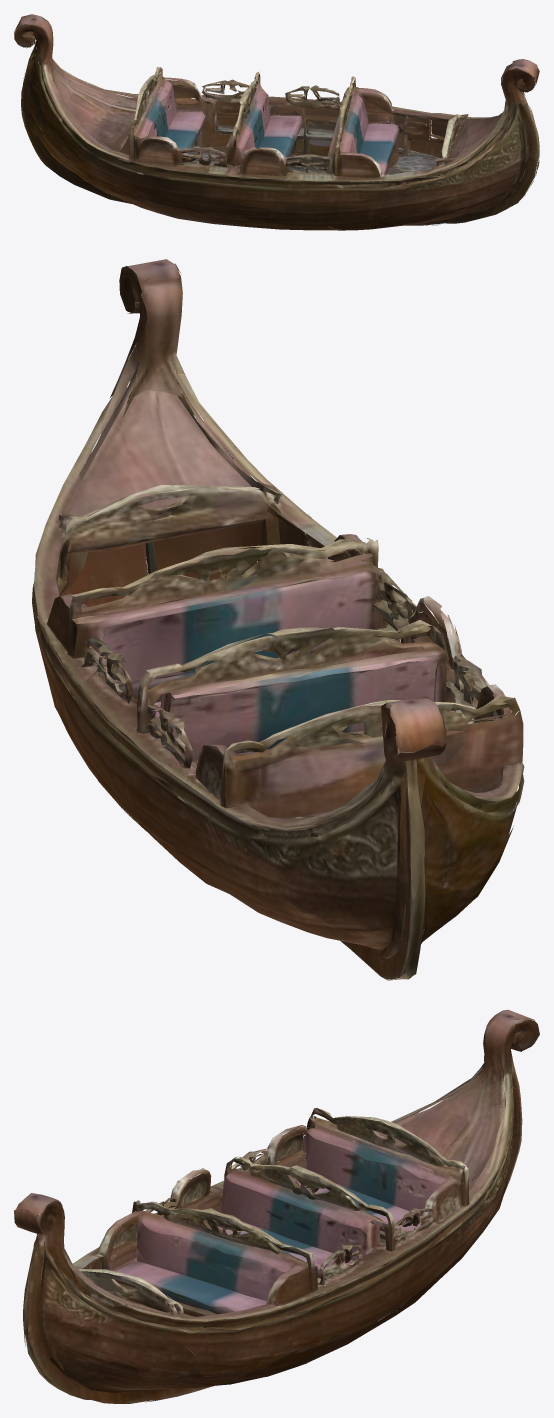
The model's file is pirate-ship.glb.
The picture shows the model from 3 angles, top to bottom: view 1: azimuth 30°, elevation 25°; view 2: azimuth 150°, elevation 25°; view 3: azimuth 270°, elevation 25°; orthographic projection. The views are drawn at different scales.
Parts seen in each view (by area): view 1: geometry_0; view 2: geometry_0; view 3: geometry_0.
Part boxes in pixels (box(x1,y1,x2,y2)): geometry_0: box(14, 14, 539, 230); geometry_0: box(32, 259, 524, 980); geometry_0: box(14, 1009, 539, 1403).
Bounding box in the file's own units: 11.01 × 5.7 × 11.12.
1 material, 1 textured.
